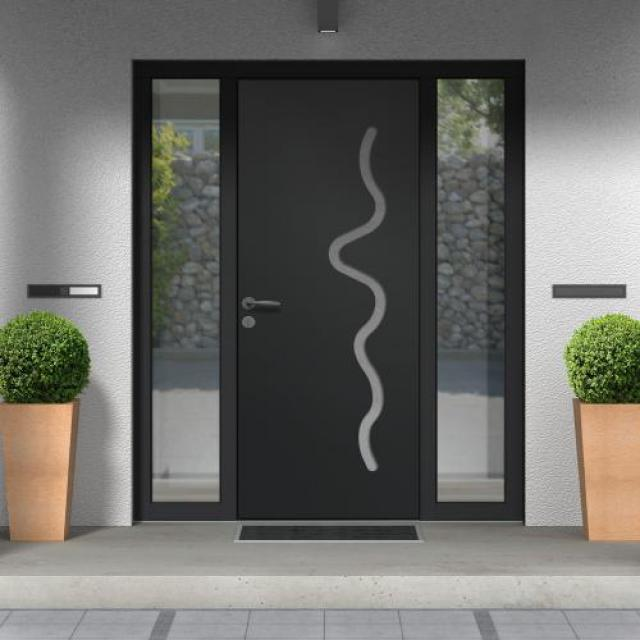close: (211, 42, 437, 530)
